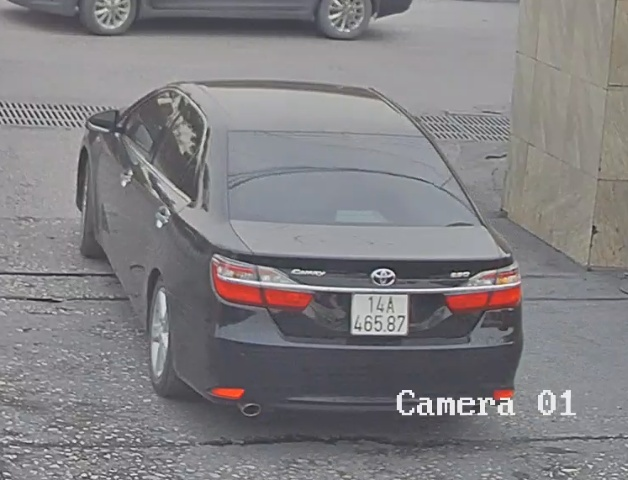vehicle plate: (345, 288, 416, 339)
